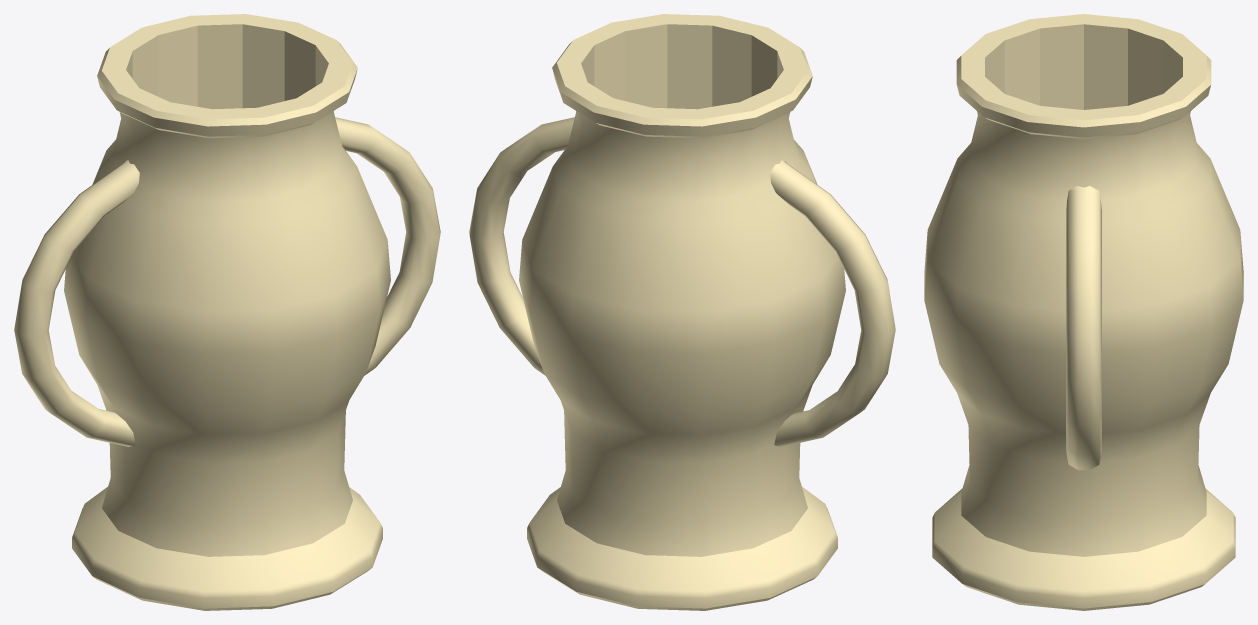
The model's file is Vasija_Modelo_2.fbx.
The picture shows the model from 3 angles, left to right: view 1: azimuth 30°, elevation 25°; view 2: azimuth 150°, elevation 25°; view 3: azimuth 270°, elevation 25°; orthographic projection.
Parts seen in each view (by area): view 1: Vasija_Modelo2; view 2: Vasija_Modelo2; view 3: Vasija_Modelo2.
Boxes of the visible parts, <box> form: Vasija_Modelo2: <box>14,14,440,610</box>; Vasija_Modelo2: <box>469,14,895,610</box>; Vasija_Modelo2: <box>924,14,1243,610</box>.
Bounding box in the file's own units: 0.6146 × 0.672 × 0.4047.
